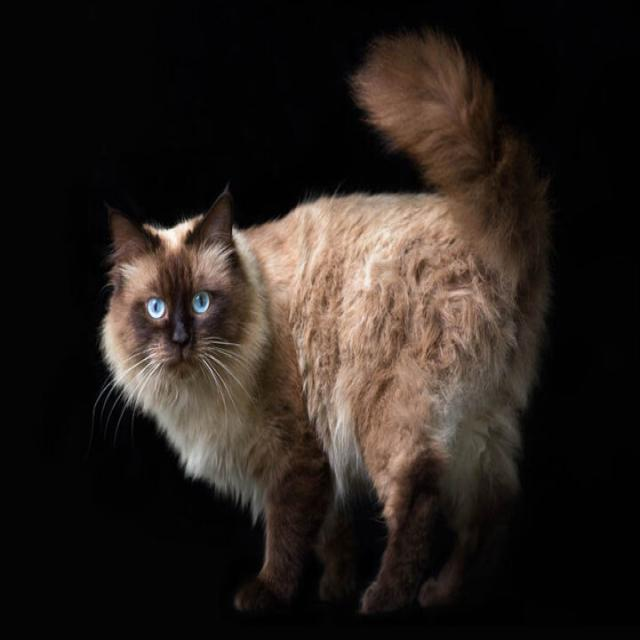Neva Masquerade: (95, 22, 556, 626)
